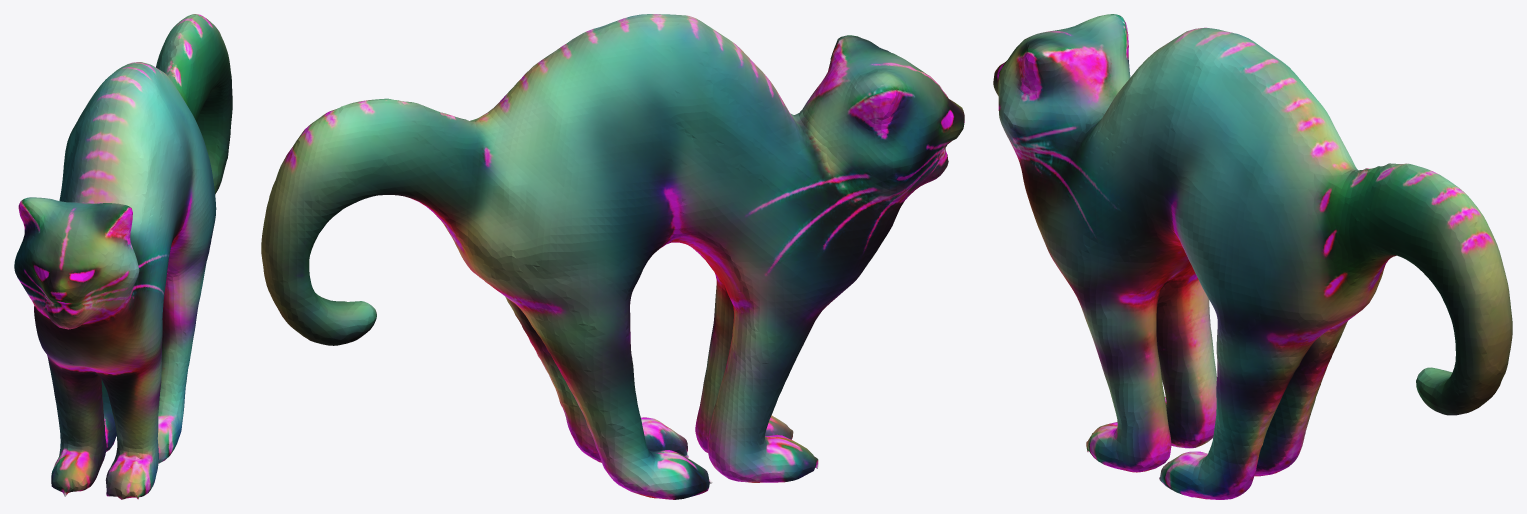
File: angry_cat1_m1.glb
3 renders of one model, left to right at view 1: azimuth 30°, elevation 25°; view 2: azimuth 150°, elevation 25°; view 3: azimuth 270°, elevation 25°, orthographic. The views are drawn at different scales.
Parts seen in each view (by area): view 1: fine_mesh; view 2: fine_mesh; view 3: fine_mesh.
Part boxes in pixels (<box>): fine_mesh: <box>14,14,232,499</box>; fine_mesh: <box>261,14,964,499</box>; fine_mesh: <box>993,14,1512,499</box>.
Size of the model in its own units: 1.6 by 1.53 by 1.6.
Materials: 1 (1 with a texture image).
